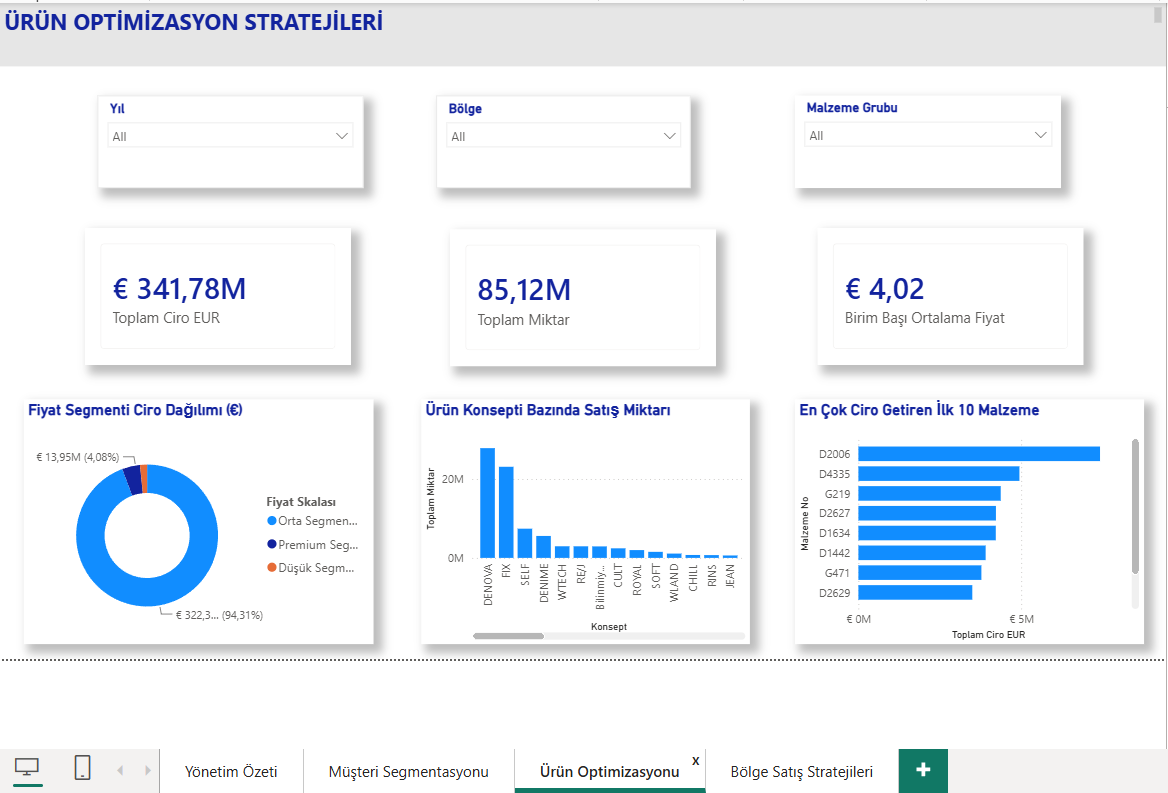

The page's visual inventory and layout, read from the dashboard file:
{"tool":"powerbi","page":{"name":"Ürün Optimizasyonu","canvas":[1280,720],"ordinal":2},"visuals":[{"type":"shape","box":[0,0,1280.3,70],"z":0},{"type":"textbox","box":[0,0,1280.3,35.7],"z":1},{"type":"slicer","fields":{"Values":["Satış Verileri.Faturalama Tarihi.Variation.Date Hierarchy.Year"]},"box":[107,101.5,291.7,101.3],"z":2},{"type":"slicer","fields":{"Values":["Satış Verileri.Bölge"]},"box":[478.9,101.5,279.6,101.3],"z":3},{"type":"slicer","fields":{"Values":["Ürün Detay.Malzeme Grubu"]},"box":[872.7,101.5,292.3,101.5],"z":4},{"type":"cardVisual","fields":{"Data":["Satış Verileri.Toplam Ciro EUR"]},"box":[93.3,247,292,150],"z":5},{"type":"cardVisual","fields":{"Data":["Satış Verileri.Toplam Miktar"]},"box":[494,248.4,292,150],"z":6},{"type":"cardVisual","fields":{"Data":["Satış Verileri.Birim Başı Ortalama Fiyat"]},"box":[897.4,247,292,150],"z":7},{"type":"donutChart","title":"Fiyat Segmenti Ciro Dağılımı (€)","fields":{"Category":["Satış Verileri.Fiyat Skalası"],"Y":["Satış Verileri.Toplam Ciro EUR"]},"box":[26.1,435,384.2,269],"z":8},{"type":"clusteredColumnChart","title":"Ürün Konsepti Bazında Satış Miktarı","fields":{"Category":["Ürün Aile Konsept.Konsept"],"Y":["Satış Verileri.Toplam Miktar"]},"box":[462.4,435,360.9,269],"z":9},{"type":"clusteredBarChart","title":"En Çok Ciro Getiren İlk 10 Malzeme","fields":{"Category":["Ürün Aile Konsept.Malzeme No"],"Y":["Satış Verileri.Toplam Ciro EUR"]},"box":[872.7,435,382.8,269],"z":10}]}

Visuals, with their boxes on the page's 1280x720 design canvas (x1, y1, x2, y2). These are canvas units, not pixel positions in the 1168x793 screenshot, which may show the page scaled, cropped or inside an application window:
shape: {"left": 0, "top": 0, "right": 1280, "bottom": 70}
textbox: {"left": 0, "top": 0, "right": 1280, "bottom": 36}
slicer - Satış Verileri.Faturalama Tarihi.Variation.Date Hierarchy.Year: {"left": 107, "top": 102, "right": 399, "bottom": 203}
slicer - Satış Verileri.Bölge: {"left": 479, "top": 102, "right": 758, "bottom": 203}
slicer - Ürün Detay.Malzeme Grubu: {"left": 873, "top": 102, "right": 1165, "bottom": 203}
cardVisual - Satış Verileri.Toplam Ciro EUR: {"left": 93, "top": 247, "right": 385, "bottom": 397}
cardVisual - Satış Verileri.Toplam Miktar: {"left": 494, "top": 248, "right": 786, "bottom": 398}
cardVisual - Satış Verileri.Birim Başı Ortalama Fiyat: {"left": 897, "top": 247, "right": 1189, "bottom": 397}
"Fiyat Segmenti Ciro Dağılımı (€)" donutChart: {"left": 26, "top": 435, "right": 410, "bottom": 704}
"Ürün Konsepti Bazında Satış Miktarı" clusteredColumnChart: {"left": 462, "top": 435, "right": 823, "bottom": 704}
"En Çok Ciro Getiren İlk 10 Malzeme" clusteredBarChart: {"left": 873, "top": 435, "right": 1256, "bottom": 704}
